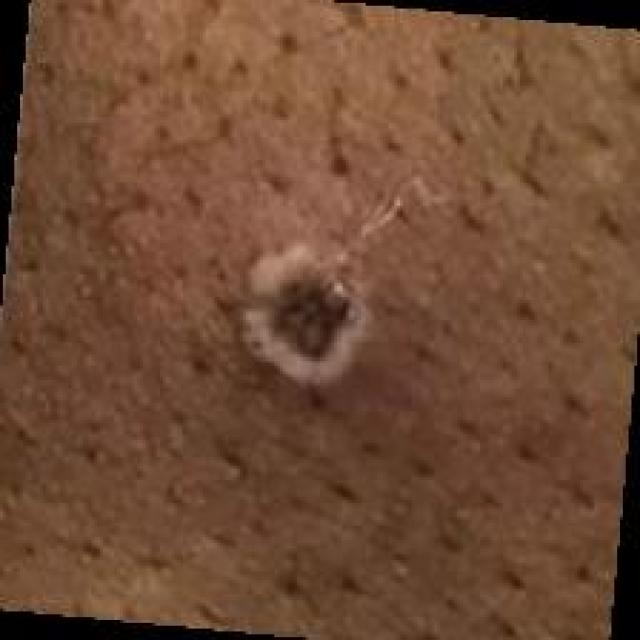monkeypox: (126, 96, 546, 571)
